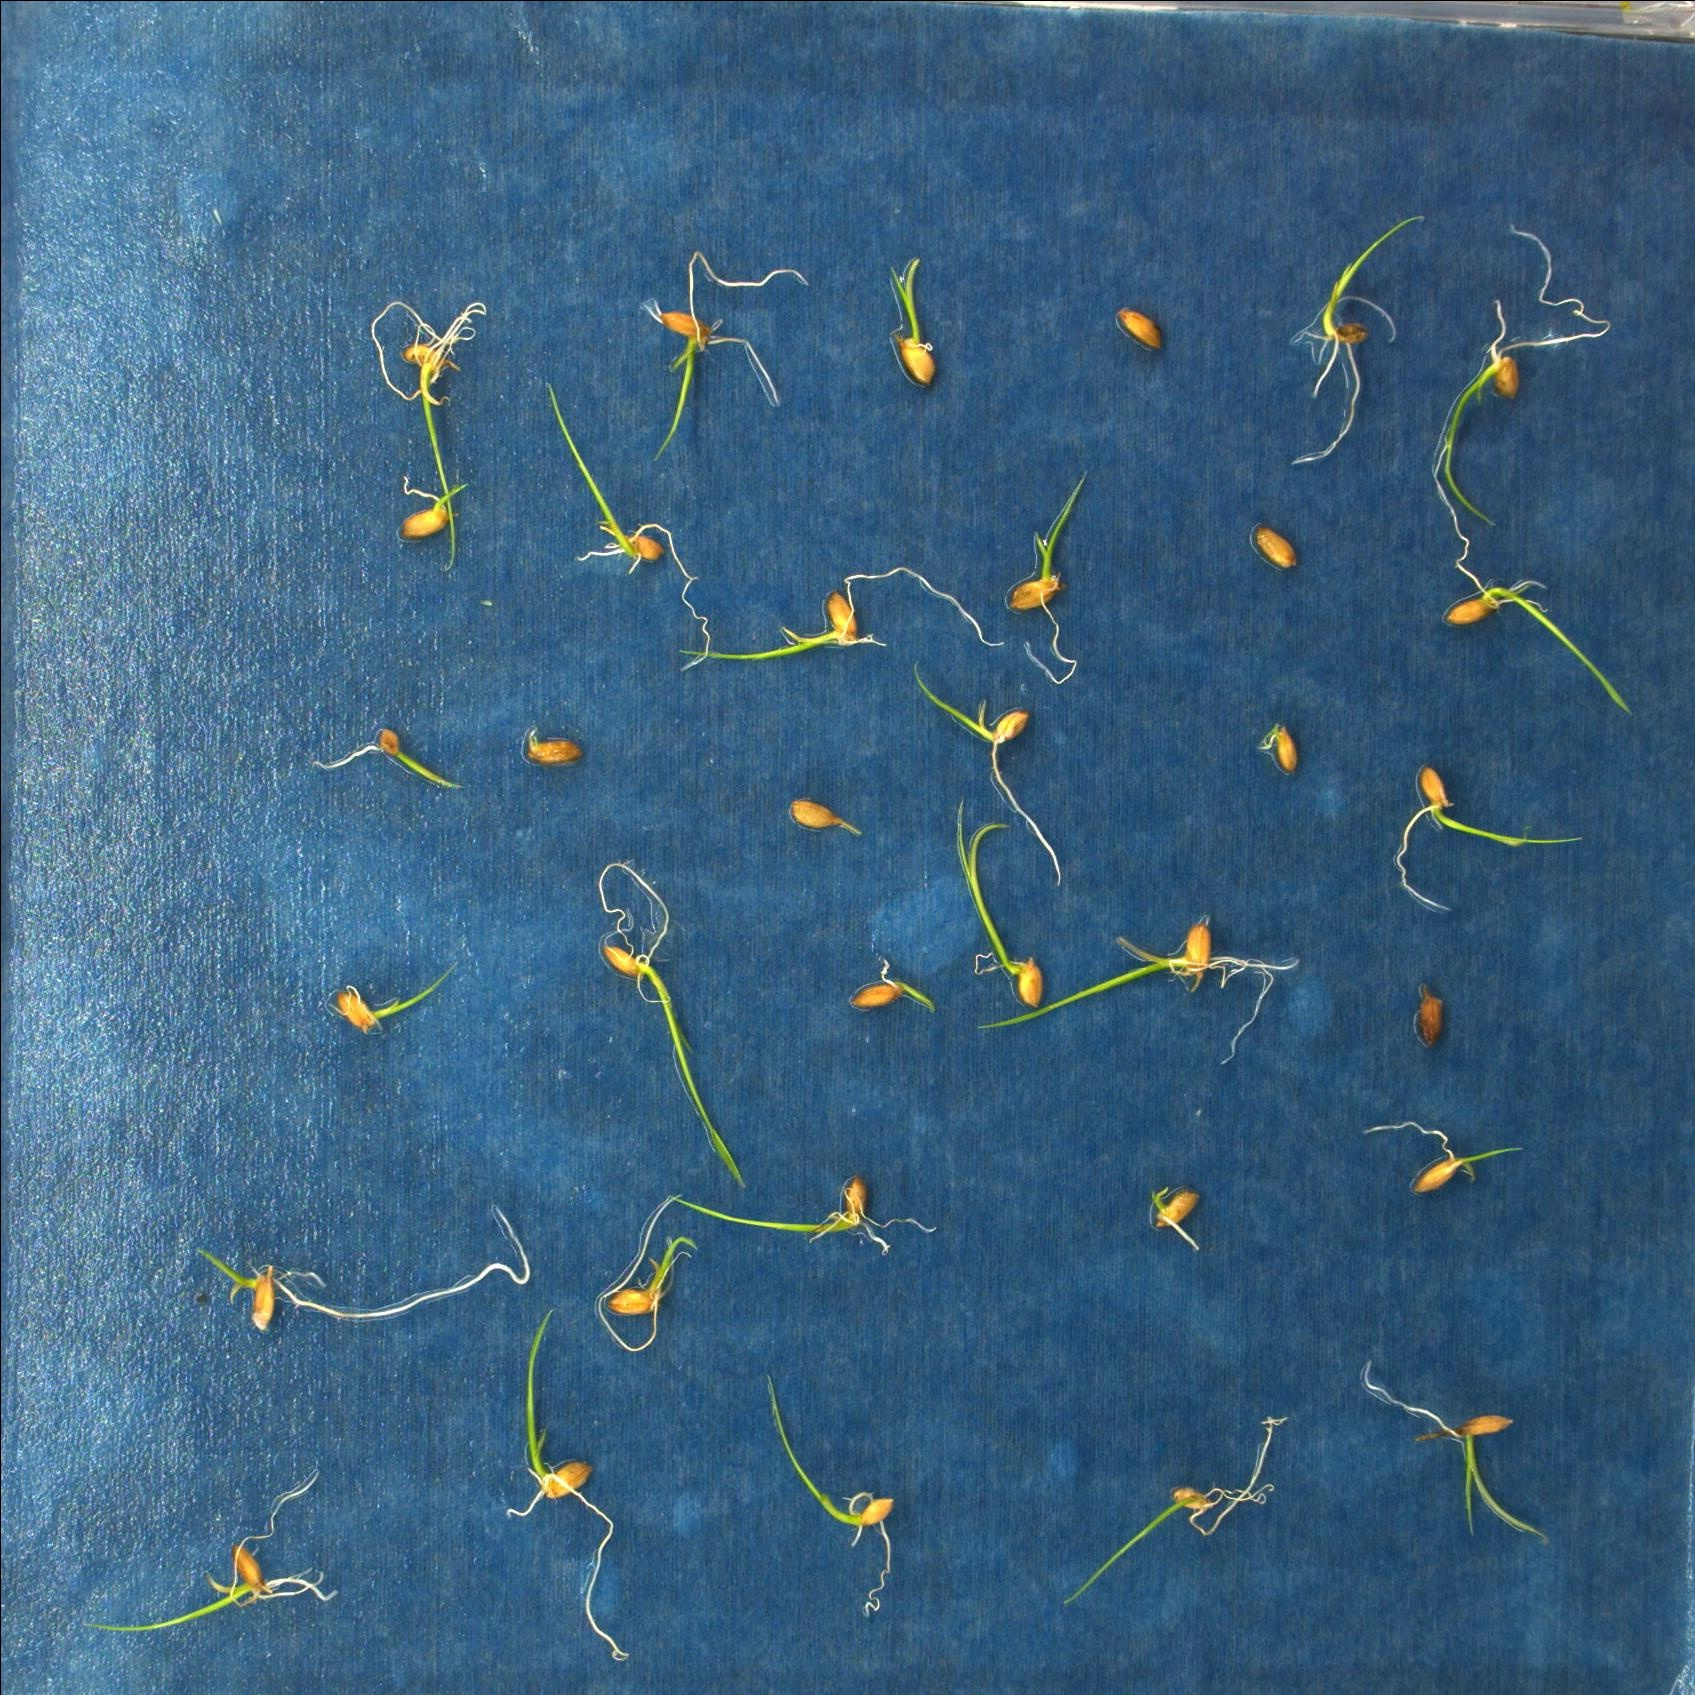not sprout: (1118, 303, 1166, 359), (1253, 518, 1299, 573), (523, 723, 581, 764), (1262, 726, 1305, 775), (1412, 983, 1447, 1043)
sprout: (1426, 425, 1634, 719), (1445, 225, 1613, 531), (973, 913, 1301, 1068), (594, 860, 747, 1191), (542, 380, 709, 677), (506, 1309, 633, 1659), (1066, 1411, 1284, 1605), (81, 1465, 338, 1628), (194, 1208, 528, 1332), (638, 248, 807, 464), (369, 293, 487, 573), (1288, 214, 1417, 467), (765, 1371, 896, 1617), (914, 664, 1063, 880), (674, 567, 1003, 661), (1367, 1358, 1543, 1535), (1392, 764, 1585, 913), (671, 1180, 944, 1253), (950, 801, 1043, 1004), (1010, 470, 1088, 683), (593, 1195, 698, 1350), (1364, 1121, 1524, 1194), (320, 961, 456, 1034), (314, 726, 466, 790), (889, 258, 938, 386), (851, 953, 944, 1014), (400, 478, 466, 542), (1152, 1186, 1205, 1251), (787, 795, 861, 838)
